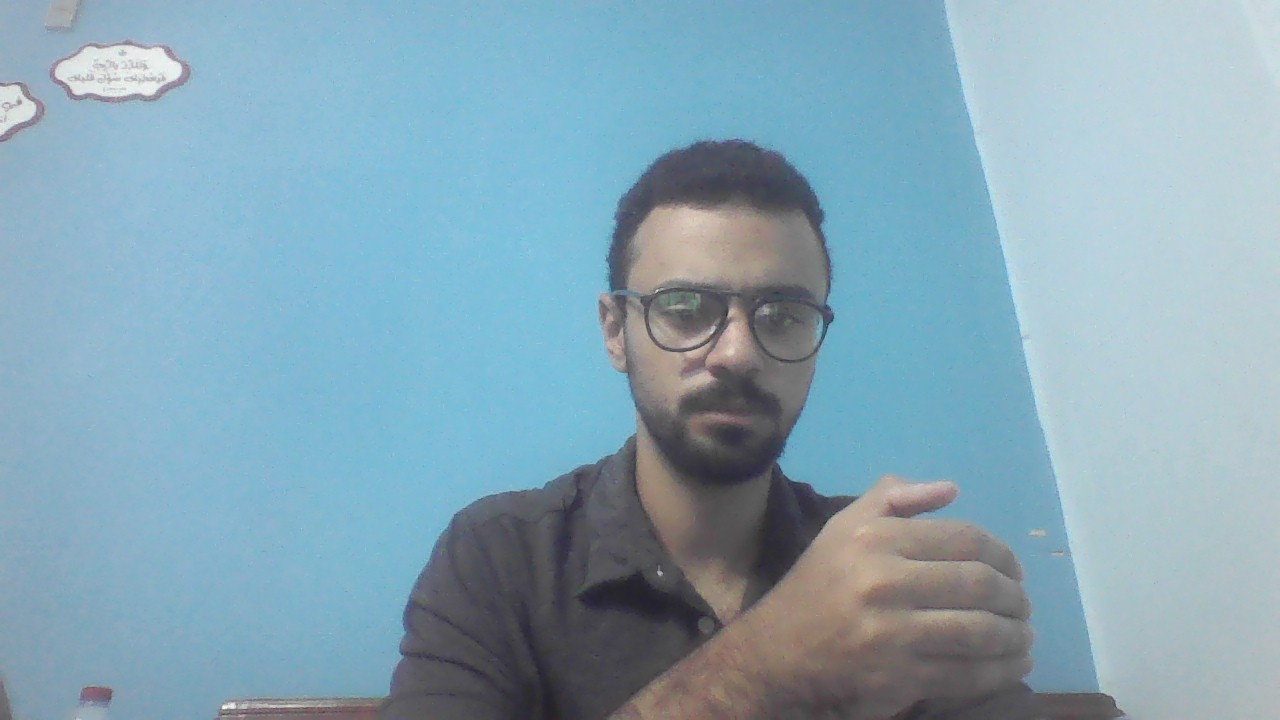drink: (748, 478, 1042, 715)
